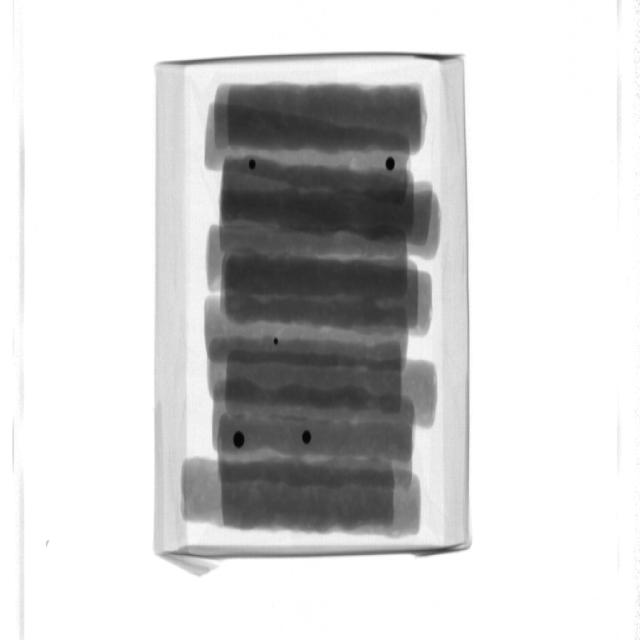ym: (236, 433, 248, 451), (387, 159, 396, 173), (304, 431, 313, 444), (249, 162, 257, 171), (275, 340, 281, 347)
